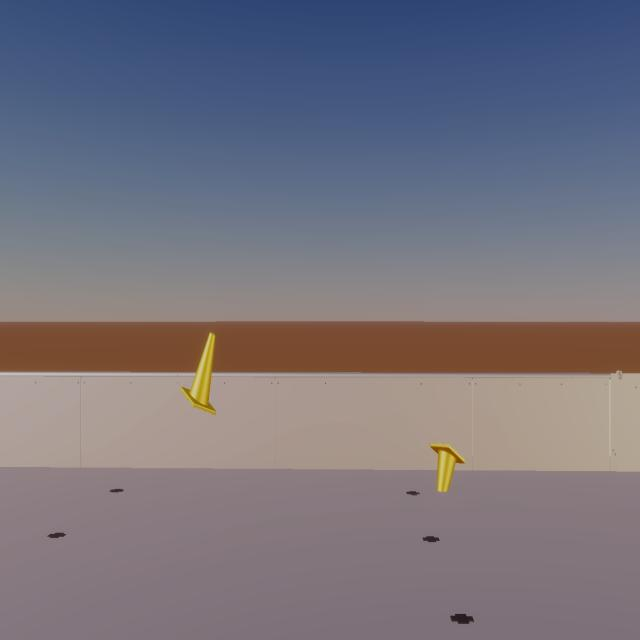frc_cone: (181, 332, 216, 415), (430, 443, 465, 492)
